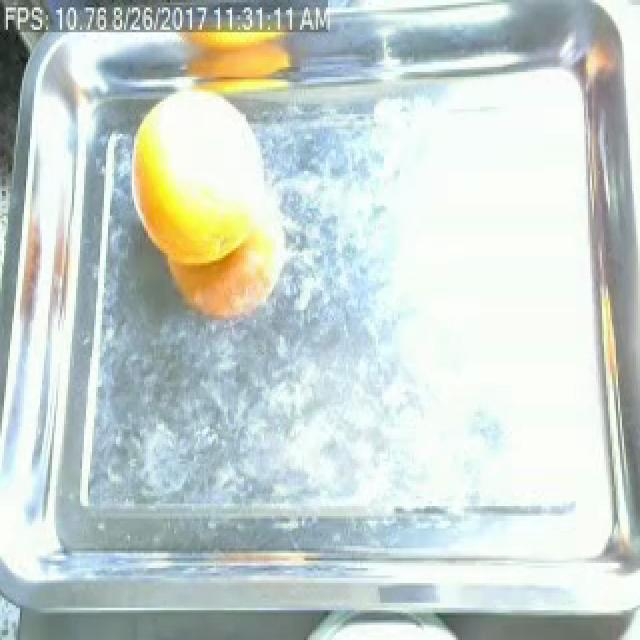Fruit: (124, 84, 278, 330), (170, 8, 304, 109)
